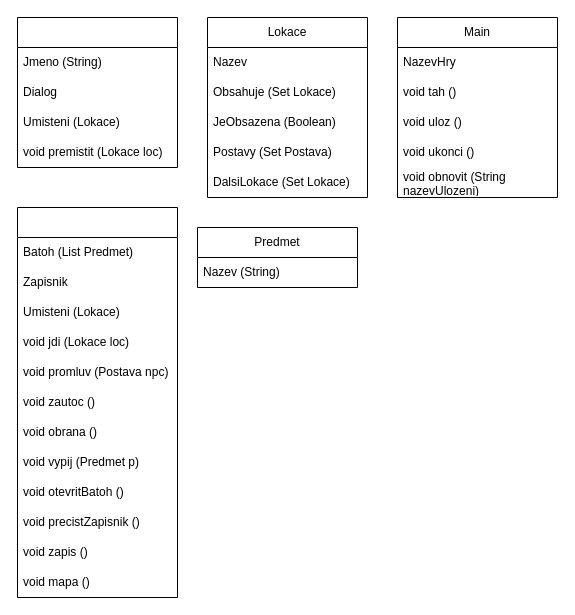
Image size: 575x615. Some labels were removed from this diagram. Here are the shapes that lost their labels. From the top down, the box of each, then its label:
(16, 16, 178, 168): Postava
(16, 206, 178, 598): Hrac
